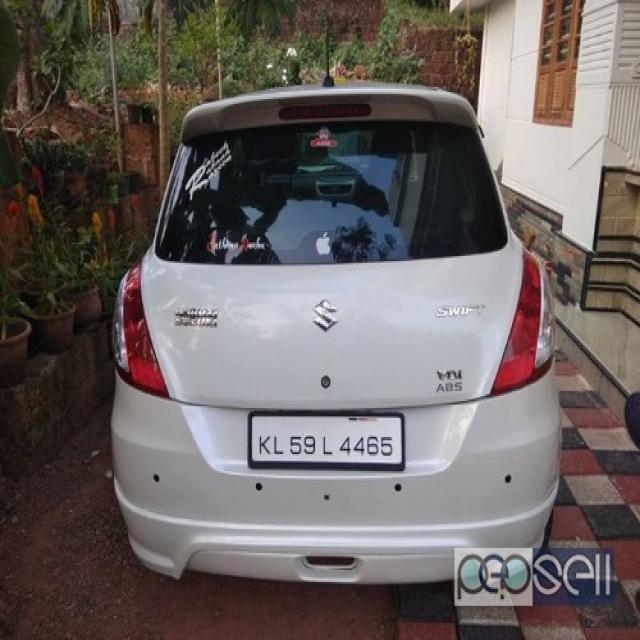Number-Plate: (252, 414, 403, 460)
